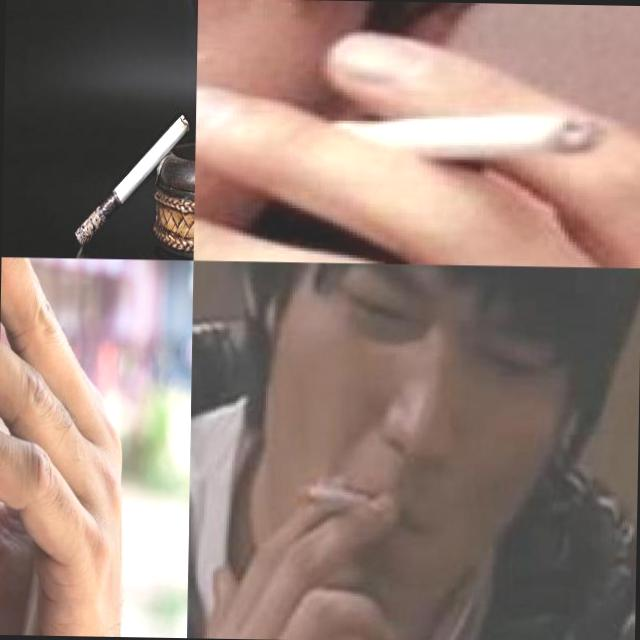cigarette: (280, 109, 607, 166), (72, 106, 192, 249), (283, 469, 386, 528)
